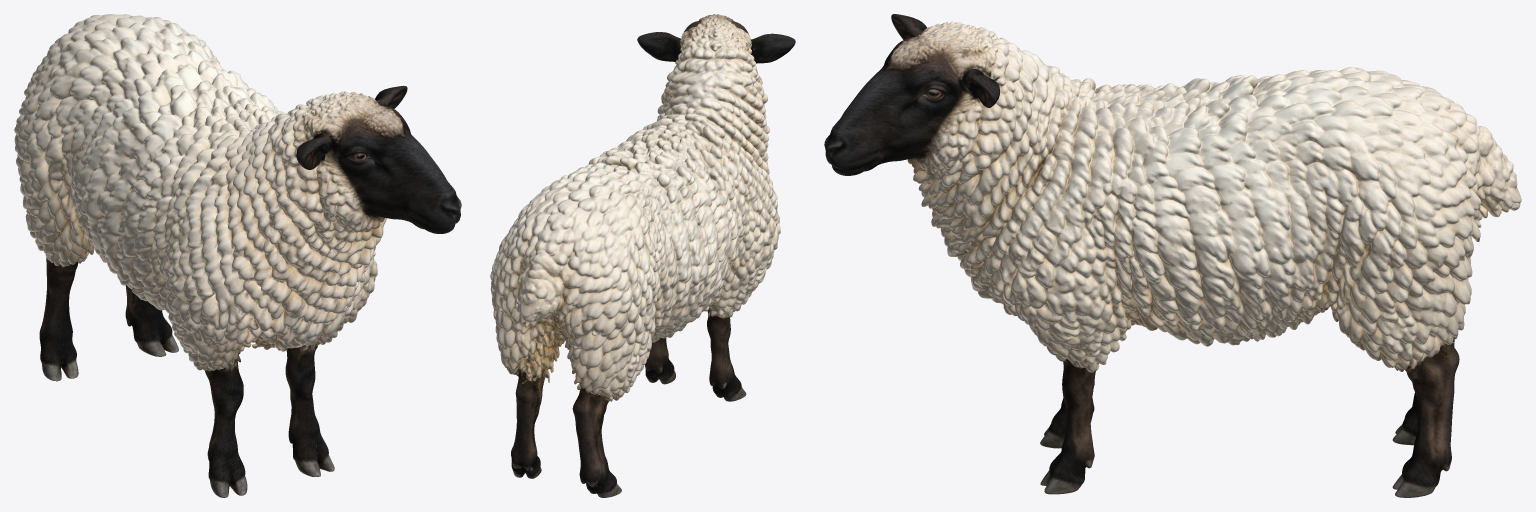
Rendered from sheep.glb.
The picture shows the model from 3 angles, left to right: view 1: azimuth 30°, elevation 25°; view 2: azimuth 150°, elevation 25°; view 3: azimuth 270°, elevation 25°; orthographic projection. The views are drawn at different scales.
Parts seen in each view (by area): view 1: sheep; view 2: sheep; view 3: sheep.
Boxes of the visible parts, box(x1,y1,x2,y2) form: sheep: box(14, 14, 461, 497); sheep: box(490, 14, 795, 497); sheep: box(824, 14, 1521, 497).
Bounding box in the file's own units: 0.4758 × 0.9252 × 1.3.
1 material, 1 textured.
